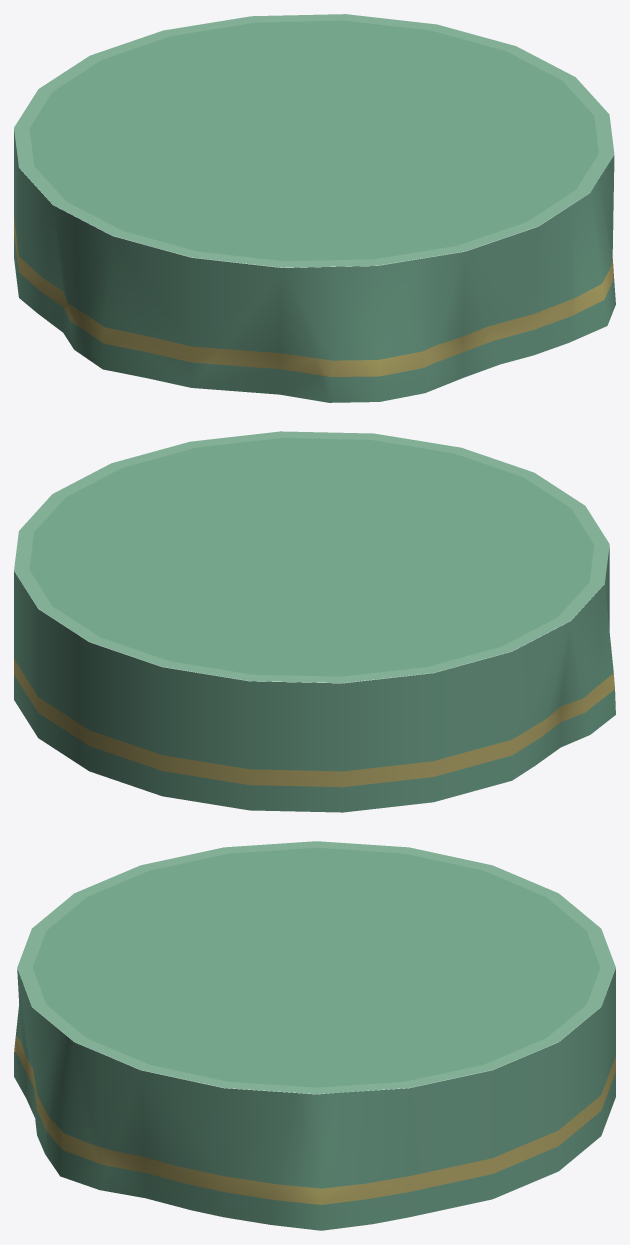
The model's file is HolidayTableRound_8.glb.
The picture shows the model from 3 angles, top to bottom: view 1: azimuth 30°, elevation 25°; view 2: azimuth 150°, elevation 25°; view 3: azimuth 270°, elevation 25°; orthographic projection.
Visible parts, largest first — view 1: HolidayTableRound; view 2: HolidayTableRound; view 3: HolidayTableRound.
Part boxes in pixels (box(x1,y1,x2,y2)): HolidayTableRound: box(14, 14, 615, 402); HolidayTableRound: box(14, 431, 615, 812); HolidayTableRound: box(14, 841, 615, 1230).
Bounding box in the file's own units: 2.17 × 0.5022 × 2.12.
